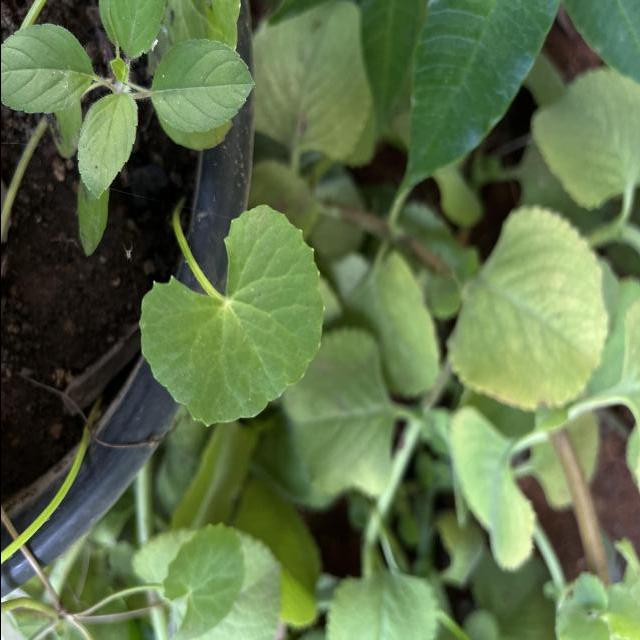Centella asiatica: (134, 200, 328, 432)
